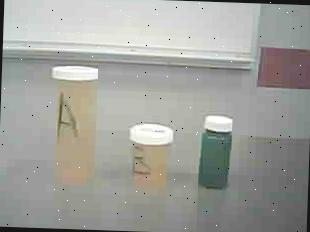Bottle A: (39, 59, 115, 192)
Bottle B: (126, 116, 180, 197)
Bottle C: (196, 112, 238, 203)
